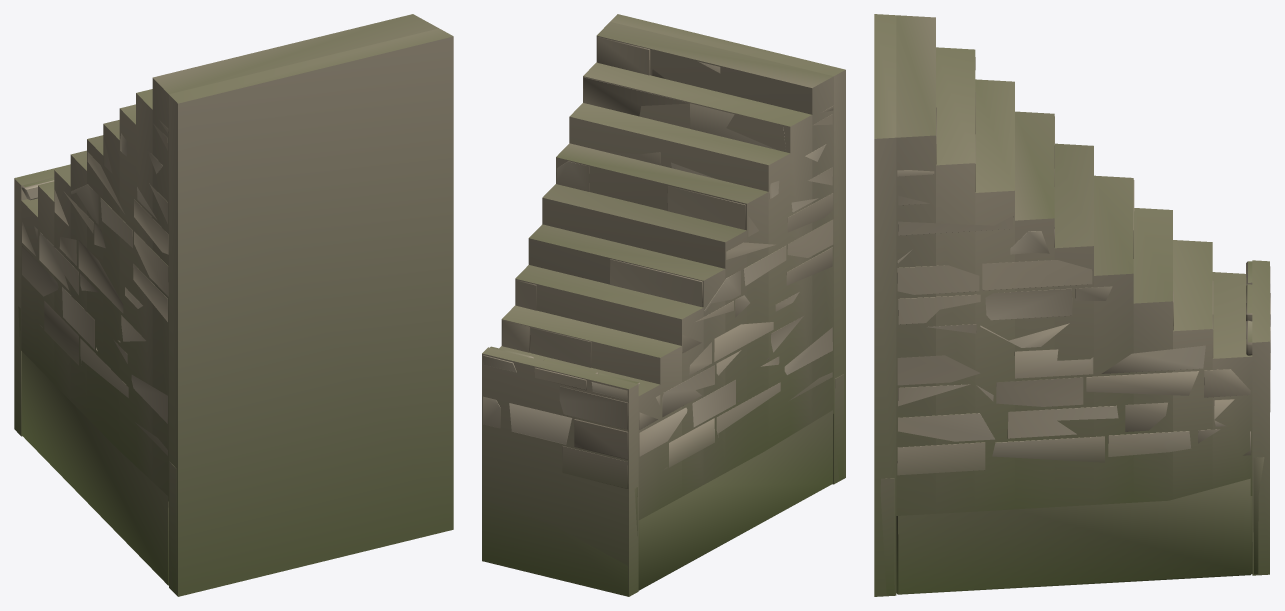
The model's file is arena_seats_b.glb.
3 views of the same model, side by side, from view 1: azimuth 30°, elevation 25°; view 2: azimuth 150°, elevation 25°; view 3: azimuth 270°, elevation 25° (orthographic). The views are drawn at different scales.
Visible parts, largest first — view 1: arena_seats_b_far, arena_seats_b; view 2: arena_seats_b_far, arena_seats_b; view 3: arena_seats_b_far, arena_seats_b.
Boxes of the visible parts, x1,y1,x2,y2 form: arena_seats_b_far: (14, 14, 453, 596); arena_seats_b: (18, 120, 176, 592); arena_seats_b_far: (482, 14, 845, 596); arena_seats_b: (483, 37, 843, 595); arena_seats_b_far: (874, 14, 1269, 596); arena_seats_b: (880, 57, 1270, 594).
Size of the model in its own units: 13.46 by 23.01 by 18.04.
